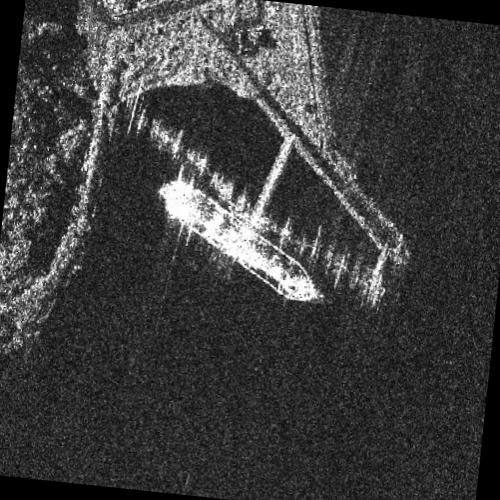ship: (159, 178, 319, 302)
